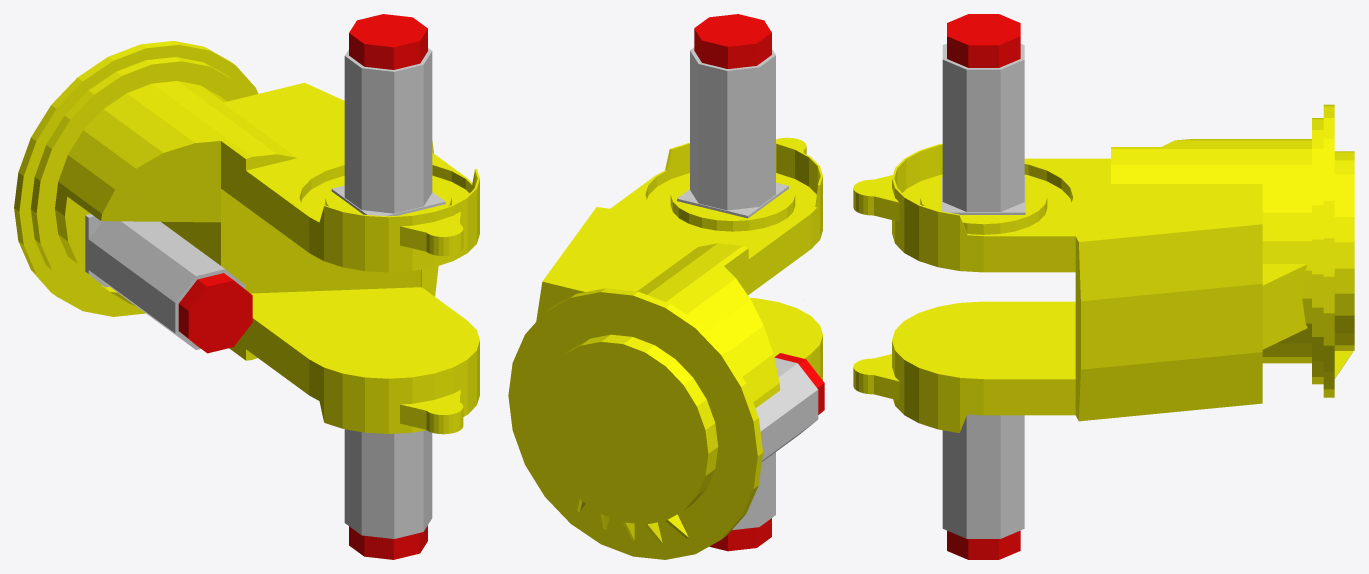
3 renders of one model, left to right at view 1: azimuth 30°, elevation 25°; view 2: azimuth 150°, elevation 25°; view 3: azimuth 270°, elevation 25°, orthographic. The views are drawn at different scales.
Visible parts, largest first — view 1: node; view 2: node; view 3: node.
Boxes of the visible parts, x1,y1,x2,y2 form: node: (14,14,479,559); node: (508,14,824,559); node: (853,14,1354,559).
Bounding box in the file's own units: 736 × 1206 × 1064.
